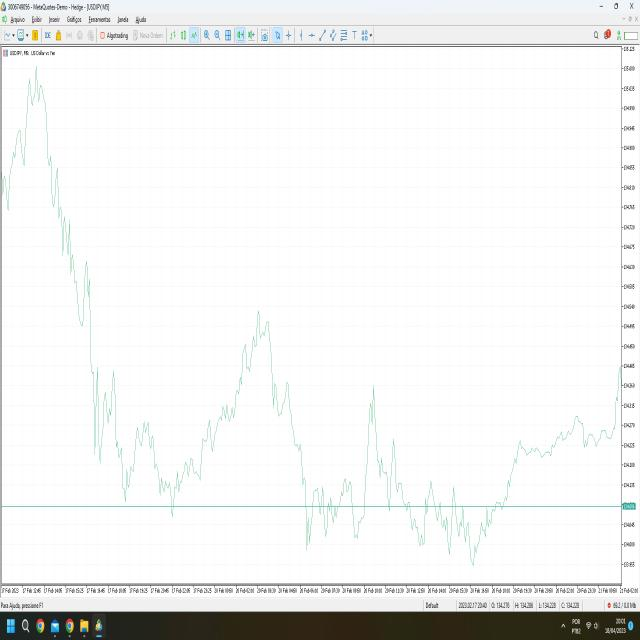oco: (18, 59, 63, 131)
